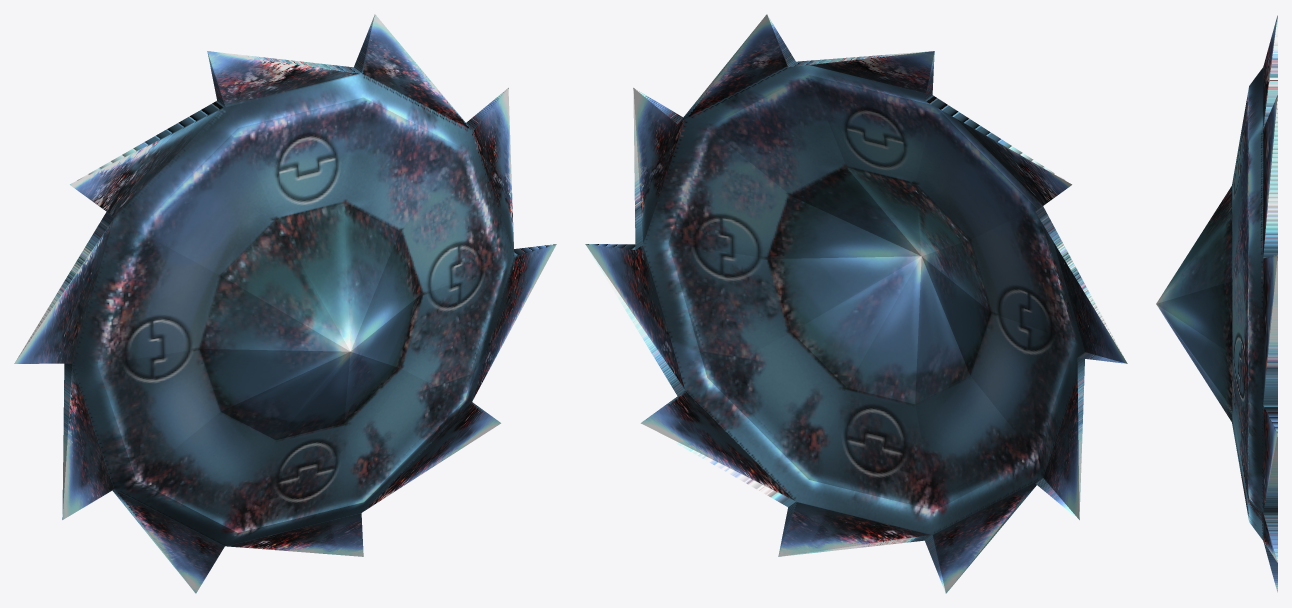
Rendered from saw.FBX.
3 renders of one model, left to right at view 1: azimuth 30°, elevation 25°; view 2: azimuth 150°, elevation 25°; view 3: azimuth 270°, elevation 25°, orthographic. The views are drawn at different scales.
Visible parts, largest first — view 1: Cylinder028; view 2: Cylinder028; view 3: Cylinder028.
Boxes of the visible parts, bbox=[...] form: Cylinder028: bbox=[14, 14, 556, 593]; Cylinder028: bbox=[585, 14, 1127, 593]; Cylinder028: bbox=[1156, 15, 1277, 592].
Size of the model in its own units: 140 by 134 by 29.19.
